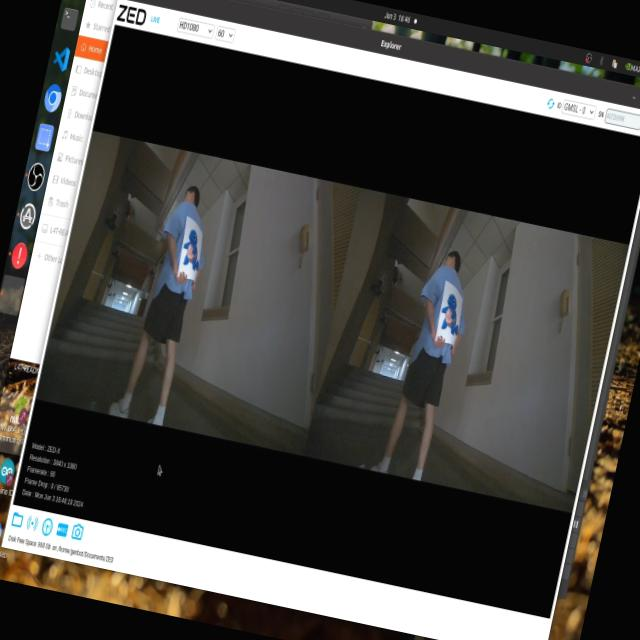blue: (425, 284, 473, 352), (167, 220, 210, 284)
